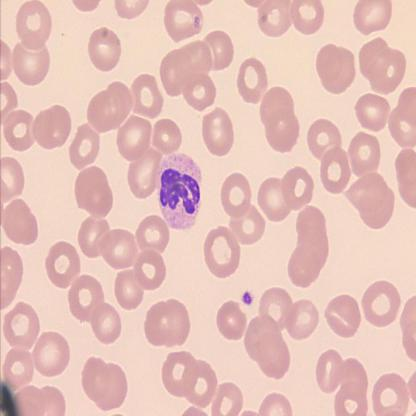Segmented neutrophil: (156, 151, 203, 231)
